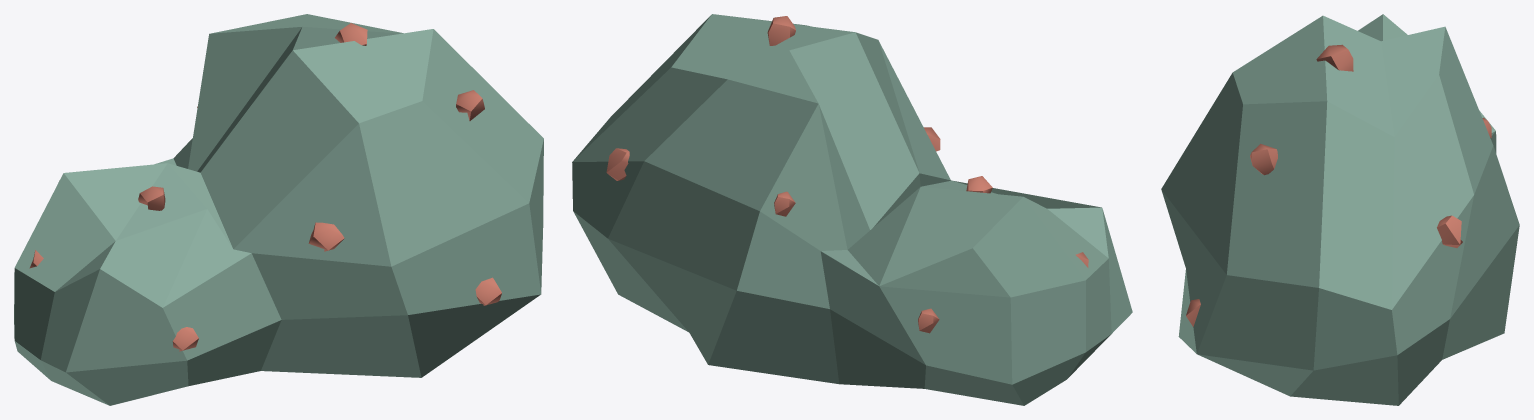
File: SM_Bush1.fbx
3 views of the same model, side by side, from view 1: azimuth 30°, elevation 25°; view 2: azimuth 150°, elevation 25°; view 3: azimuth 270°, elevation 25° (orthographic). The views are drawn at different scales.
Visible parts, largest first — view 1: Bush1; view 2: Bush1; view 3: Bush1.
Part boxes in pixels (box(x1,y1,x2,y2)): Bush1: box(14, 14, 543, 405); Bush1: box(572, 14, 1132, 405); Bush1: box(1161, 14, 1519, 405).
Size of the model in its own units: 86.71 by 48 by 52.4.
